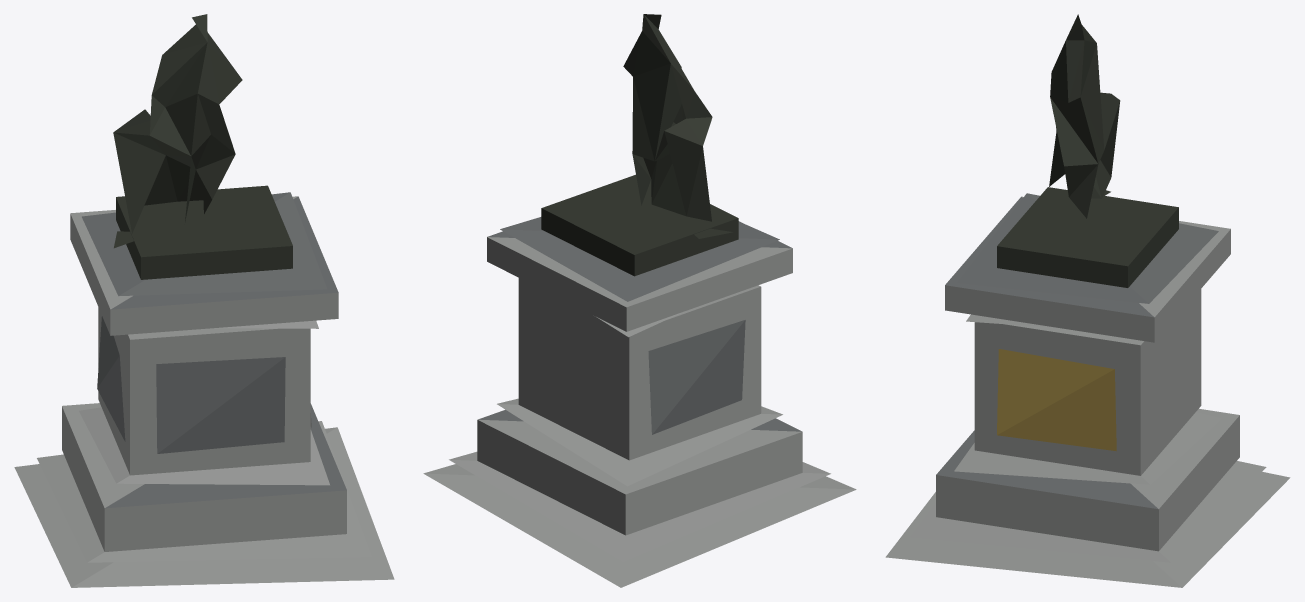
The model's file is thorbecke-standbeeld.lod2.glb.
3 views of the same model, side by side, from view 1: azimuth 30°, elevation 25°; view 2: azimuth 150°, elevation 25°; view 3: azimuth 270°, elevation 25° (orthographic). The views are drawn at different scales.
Parts seen in each view (by area): view 1: lod2; view 2: lod2; view 3: lod2.
Part boxes in pixels (x1,y1,x2,y2): lod2: (14,14,394,587); lod2: (423,14,856,587); lod2: (885,14,1290,587).
Bounding box in the file's own units: 4.36 × 5.87 × 4.36.
